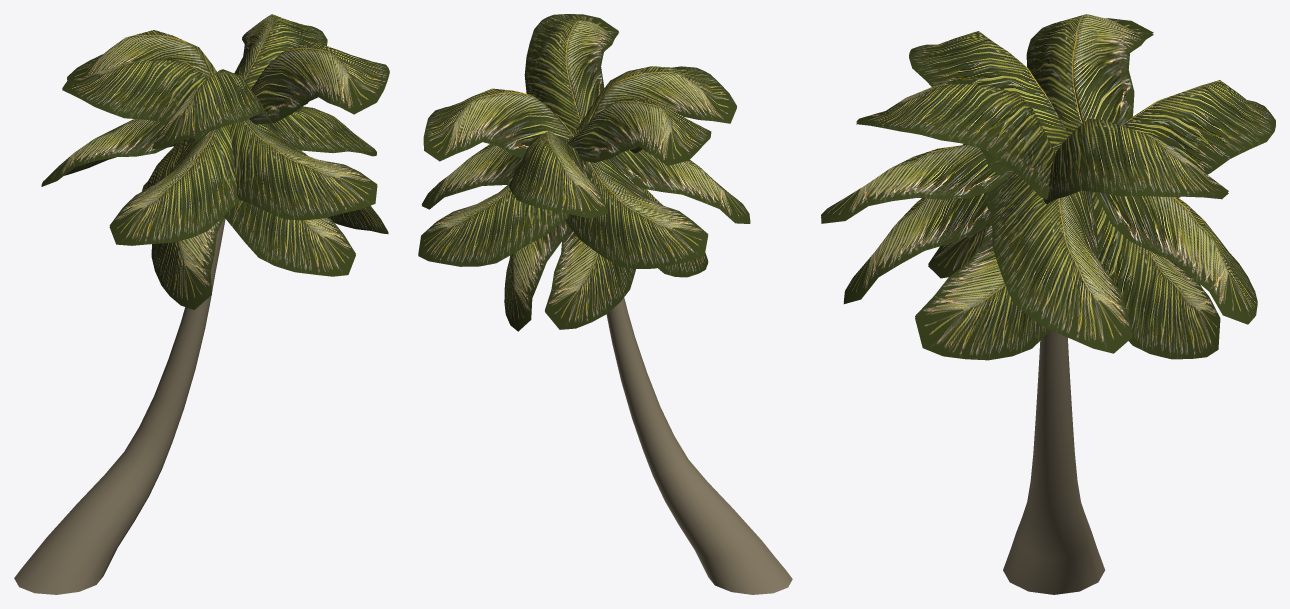
The model's file is palmtree_mesh_1.fbx.
3 views of the same model, side by side, from view 1: azimuth 30°, elevation 25°; view 2: azimuth 150°, elevation 25°; view 3: azimuth 270°, elevation 25° (orthographic). The views are drawn at different scales.
Visible parts, largest first — view 1: tree1; view 2: tree1; view 3: tree1.
Boxes of the visible parts, x1,y1,x2,y2 form: tree1: (14, 14, 389, 594); tree1: (418, 14, 792, 594); tree1: (821, 14, 1275, 594).
Bounding box in the file's own units: 71.07 × 93.25 × 61.41.
